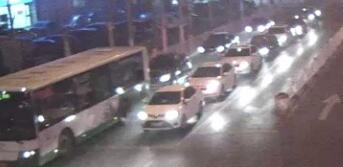bus: (1, 42, 152, 166)
car: (136, 80, 205, 129), (185, 61, 237, 100), (143, 49, 193, 88), (221, 43, 260, 75), (198, 30, 240, 59), (247, 31, 278, 59), (242, 14, 272, 32), (269, 23, 292, 45), (289, 13, 306, 37)
